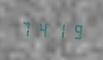four: (34, 19, 49, 39)
nine: (66, 20, 81, 41)
one: (50, 19, 65, 40)
seven: (18, 18, 33, 39)
